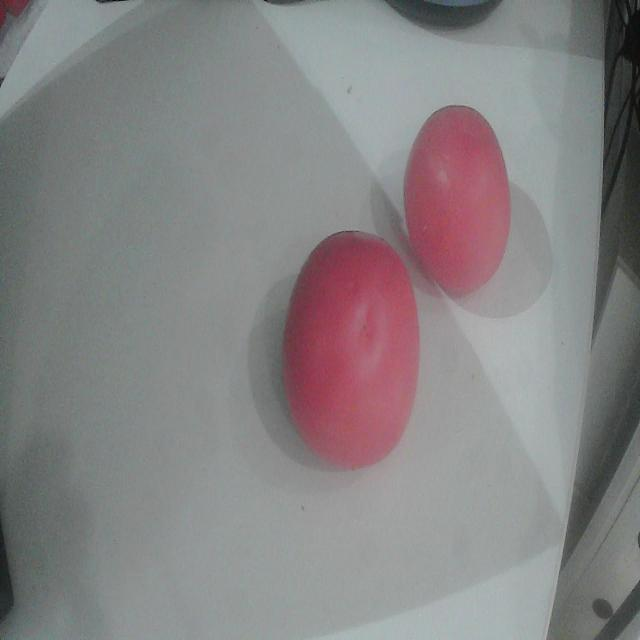Tomato: (284, 232, 419, 468), (404, 106, 510, 300)
